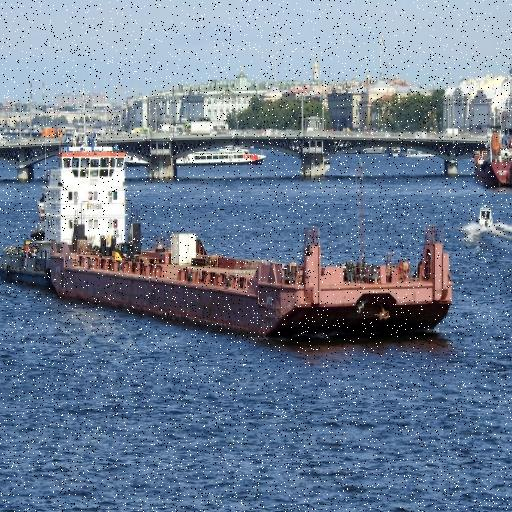tugboat: (1, 137, 148, 297)
